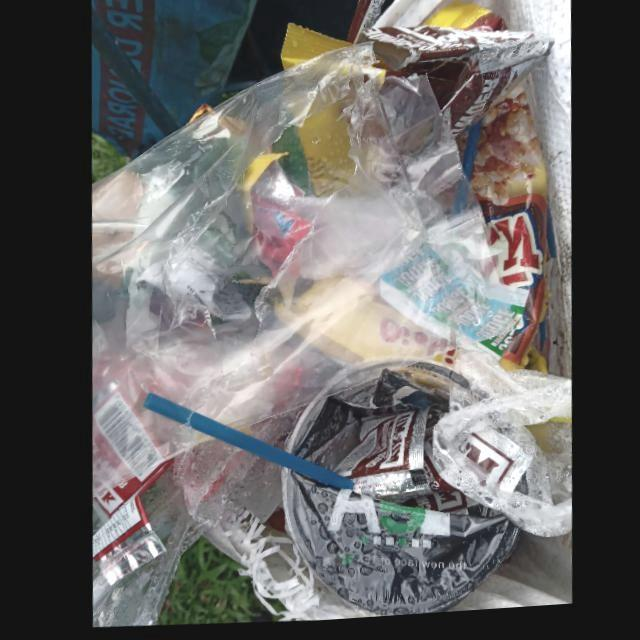food_wrapper: (462, 99, 546, 372), (363, 30, 555, 146), (88, 463, 169, 587), (330, 408, 426, 481)
plastic_bag: (88, 45, 510, 500)
